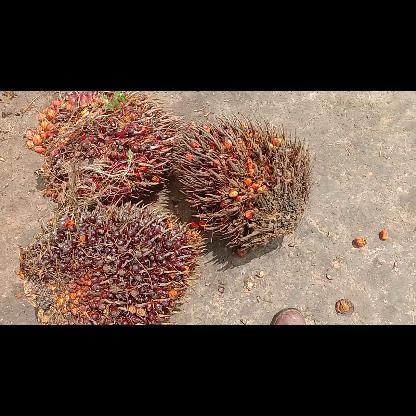Kurang masak: (20, 206, 202, 324)
TBS masak: (27, 90, 170, 202)
Terlalu masak: (168, 121, 312, 253)
